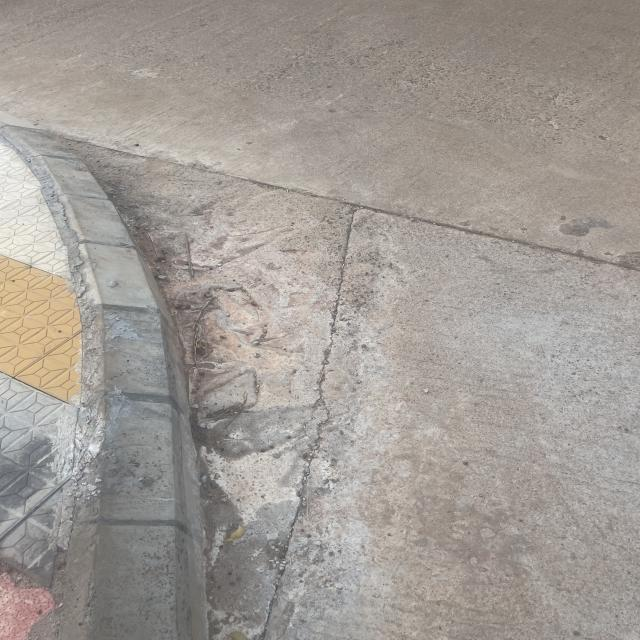D43: (225, 184, 394, 640)
